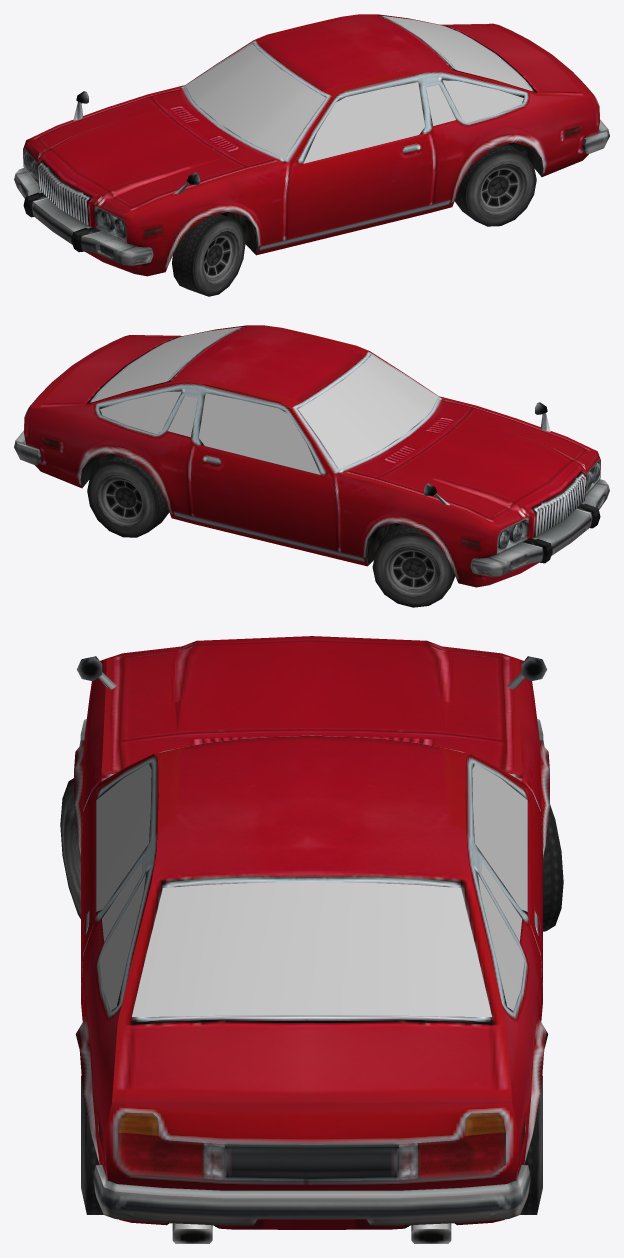
The model's file is cosmo_ap.fbx.
3 renders of one model, top to bottom at view 1: azimuth 30°, elevation 25°; view 2: azimuth 150°, elevation 25°; view 3: azimuth 270°, elevation 25°, orthographic. The views are drawn at different scales.
Parts seen in each view (by area): view 1: body, Glass, Hood, Wheel_RL, Wheel_FL, Bumper_rear (×2), Trunk, Bottom, Glass_Headlightsmm; view 2: body, Glass, Hood, Wheel_FR, Wheel_RR, Bumper_rear (×2), Trunk, Bottom, Glass_Headlightsmm; view 3: body, Glass, Trunk, Hood, Bumper_rear, Glass_Stoplights, Wheel_FR, Wheel_FL, Bottom, Glass_Reverselights, Wheel_RR, Wheel_RL.
Part boxes in pixels (x1=…): body: x1=23, y1=14, x2=599, y2=276; Glass: x1=185, y1=16, x2=531, y2=163; Hood: x1=38, y1=96, x2=246, y2=207; Wheel_RL: x1=454, y1=144, x2=536, y2=226; Wheel_FL: x1=172, y1=214, x2=245, y2=296; Bumper_rear (×2): x1=14, y1=119, x2=609, y2=265; Trunk: x1=445, y1=25, x2=592, y2=93; Bottom: x1=220, y1=142, x2=543, y2=254; Glass_Headlightsmm: x1=23, y1=152, x2=124, y2=238; body: x1=24, y1=325, x2=600, y2=587; Glass: x1=91, y1=327, x2=437, y2=474; Hood: x1=377, y1=408, x2=585, y2=518; Wheel_FR: x1=372, y1=524, x2=455, y2=607; Wheel_RR: x1=87, y1=455, x2=169, y2=537; Bumper_rear (×2): x1=14, y1=430, x2=609, y2=576; Trunk: x1=30, y1=336, x2=178, y2=405; Bottom: x1=80, y1=453, x2=399, y2=565; Glass_Headlightsmm: x1=499, y1=463, x2=600, y2=549; body: x1=74, y1=636, x2=549, y2=1229; Glass: x1=96, y1=763, x2=527, y2=1016; Trunk: x1=125, y1=1021, x2=498, y2=1144; Hood: x1=119, y1=641, x2=504, y2=741; Bumper_rear: x1=93, y1=1165, x2=530, y2=1225; Glass_Stoplights: x1=118, y1=1132, x2=505, y2=1178; Wheel_FR: x1=543, y1=804, x2=563, y2=931; Wheel_FL: x1=60, y1=778, x2=80, y2=918; Bottom: x1=75, y1=1032, x2=548, y2=1243; Glass_Reverselights: x1=203, y1=1143, x2=418, y2=1180; Wheel_RR: x1=520, y1=1075, x2=542, y2=1214; Wheel_RL: x1=81, y1=1075, x2=103, y2=1214.
Bounding box in the file's own units: 416 × 124 × 175.
